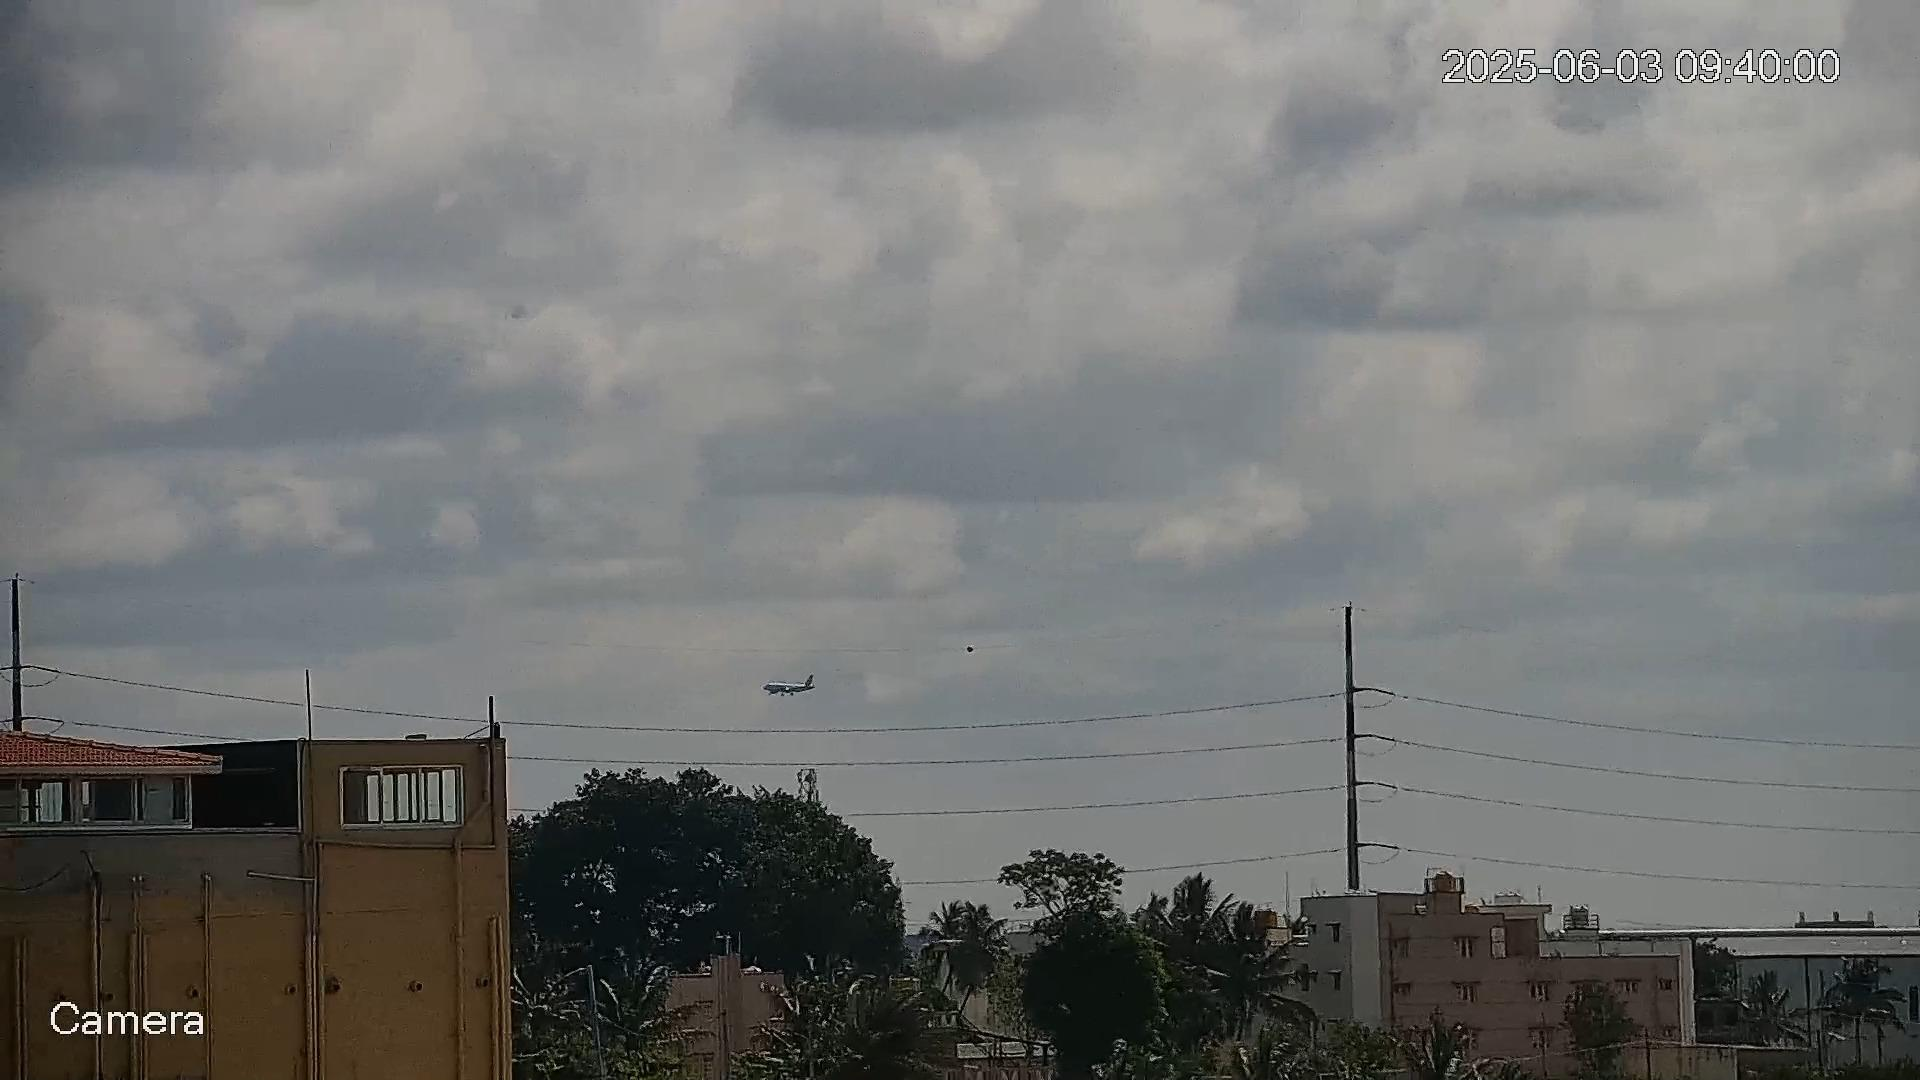Aircraft: (762, 674, 816, 698)
